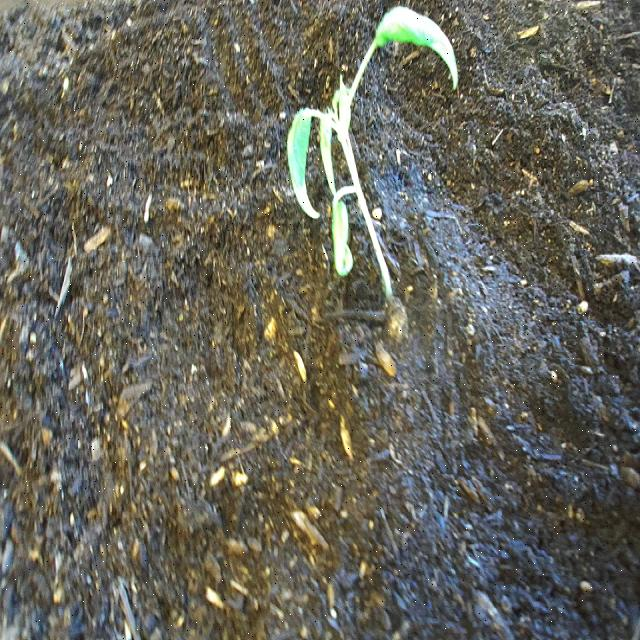Healthy: (278, 5, 466, 321)
